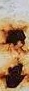Corrosion: (1, 21, 29, 55), (1, 57, 29, 89)
